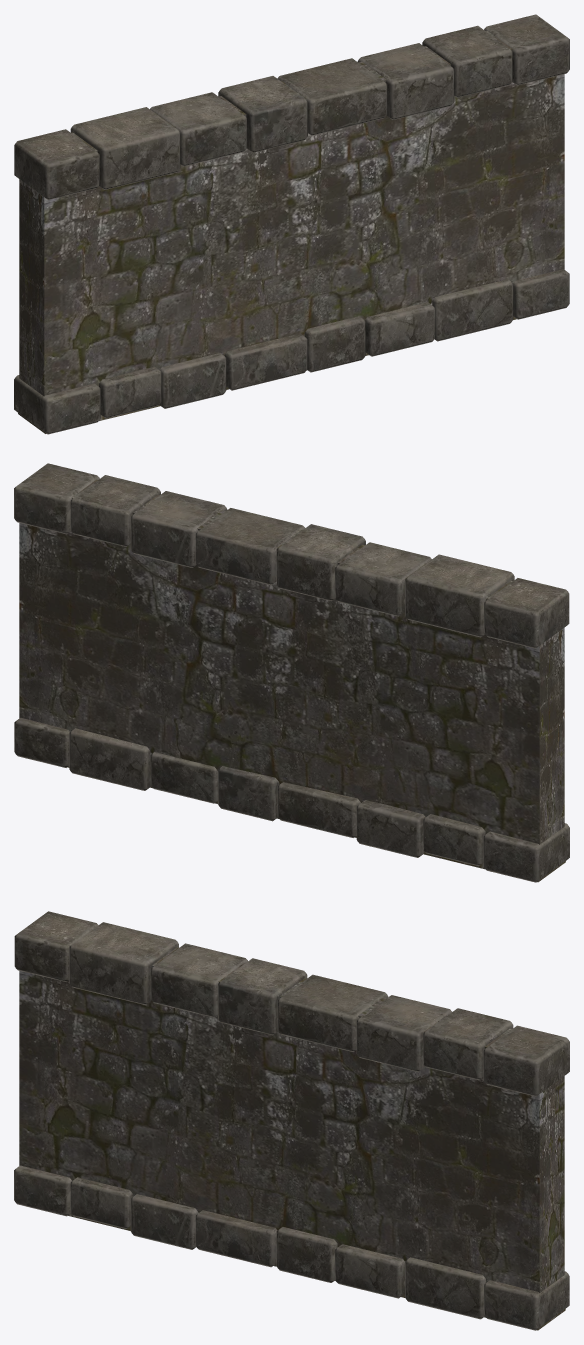
File: JAIL_Wall_Stone_Mossy_B_c-transformed.glb
3 renders of one model, top to bottom at view 1: azimuth 30°, elevation 25°; view 2: azimuth 150°, elevation 25°; view 3: azimuth 330°, elevation 25°, orthographic.
Parts seen in each view (by area): view 1: default; view 2: default; view 3: default.
Part boxes in pixels (x1=…): default: x1=14, y1=14, x2=569, y2=434; default: x1=14, y1=463, x2=569, y2=882; default: x1=14, y1=911, x2=569, y2=1330.
Size of the model in its own units: 6.06 by 3.05 by 0.7423.
Materials: 2 (2 with a texture image).
